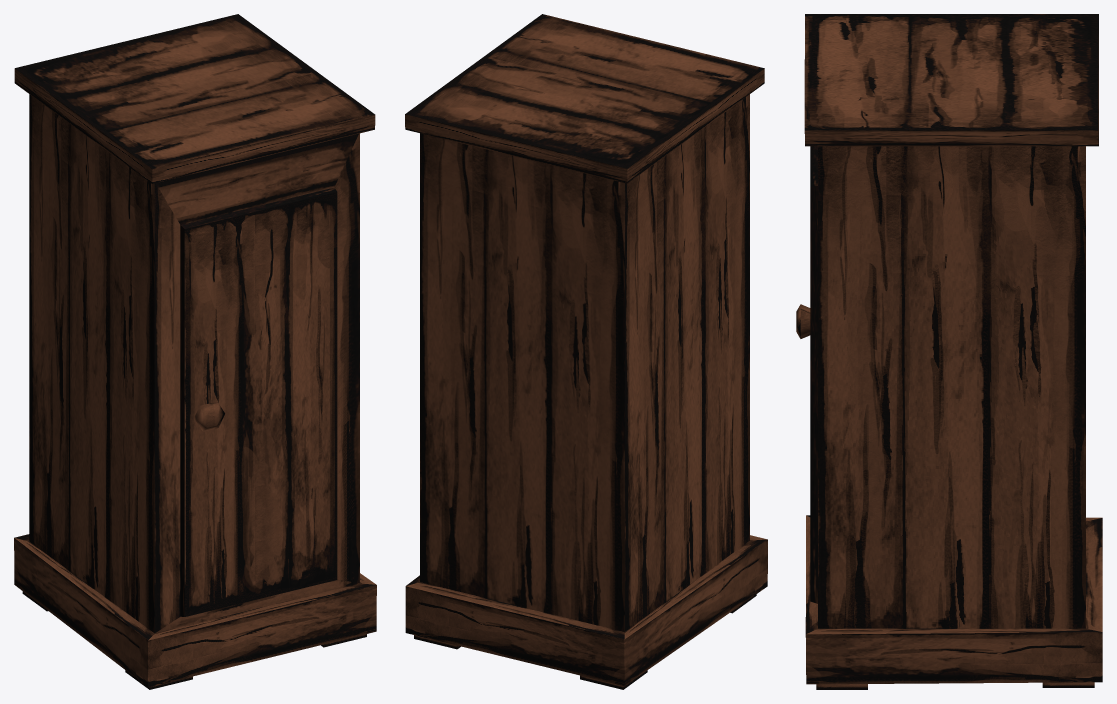
Rendered from CabinetWall.fbx.
The picture shows the model from 3 angles, left to right: view 1: azimuth 30°, elevation 25°; view 2: azimuth 150°, elevation 25°; view 3: azimuth 270°, elevation 25°; orthographic projection. The views are drawn at different scales.
Visible parts, largest first — view 1: CabinetWall; view 2: CabinetWall; view 3: CabinetWall.
Boxes of the visible parts, x1=… form: CabinetWall: x1=14, y1=14, x2=376, y2=689; CabinetWall: x1=405, y1=14, x2=767, y2=689; CabinetWall: x1=796, y1=14, x2=1102, y2=689.
Bounding box in the file's own units: 0.8741 × 1.92 × 0.949.
